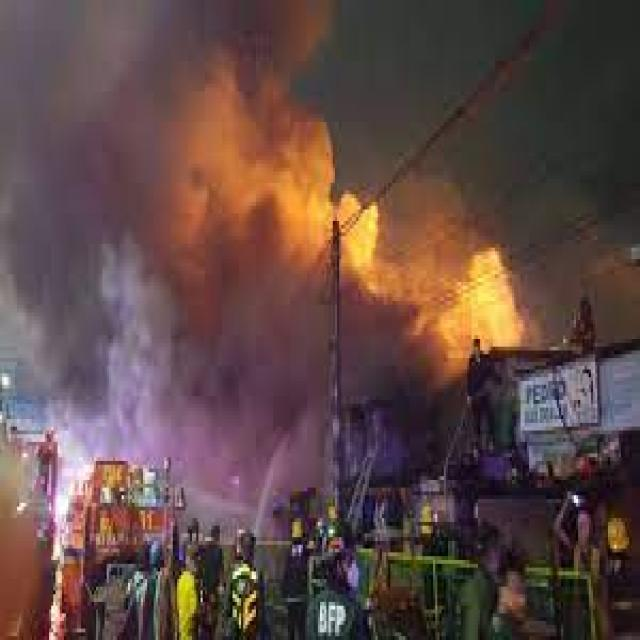Smoke: (5, 3, 508, 429)
